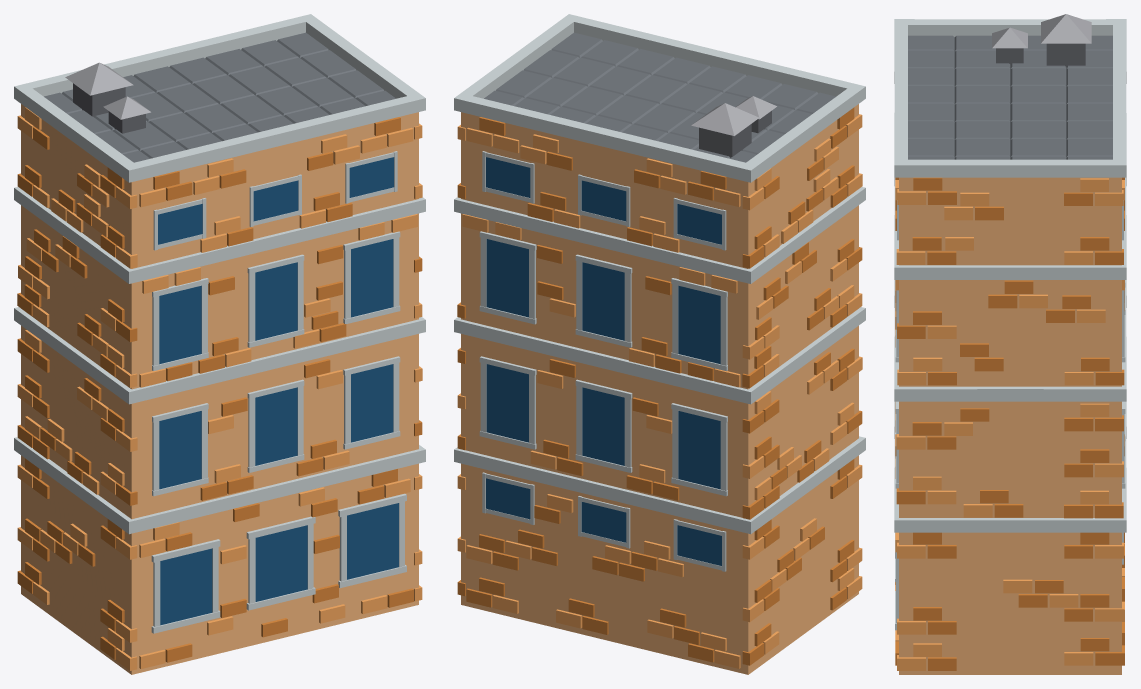
File: SM_House_14_B.FBX
3 views of the same model, side by side, from view 1: azimuth 30°, elevation 25°; view 2: azimuth 150°, elevation 25°; view 3: azimuth 270°, elevation 25° (orthographic).
Visible parts, largest first — view 1: SM_House_14_B; view 2: SM_House_14_B; view 3: SM_House_14_B.
Part boxes in pixels (box(x1,y1,x2,y2)): SM_House_14_B: box(14, 14, 425, 674); SM_House_14_B: box(454, 14, 865, 674); SM_House_14_B: box(894, 14, 1126, 674).
Size of what is drawn, in the model's own units: 620 by 416 by 1077.
